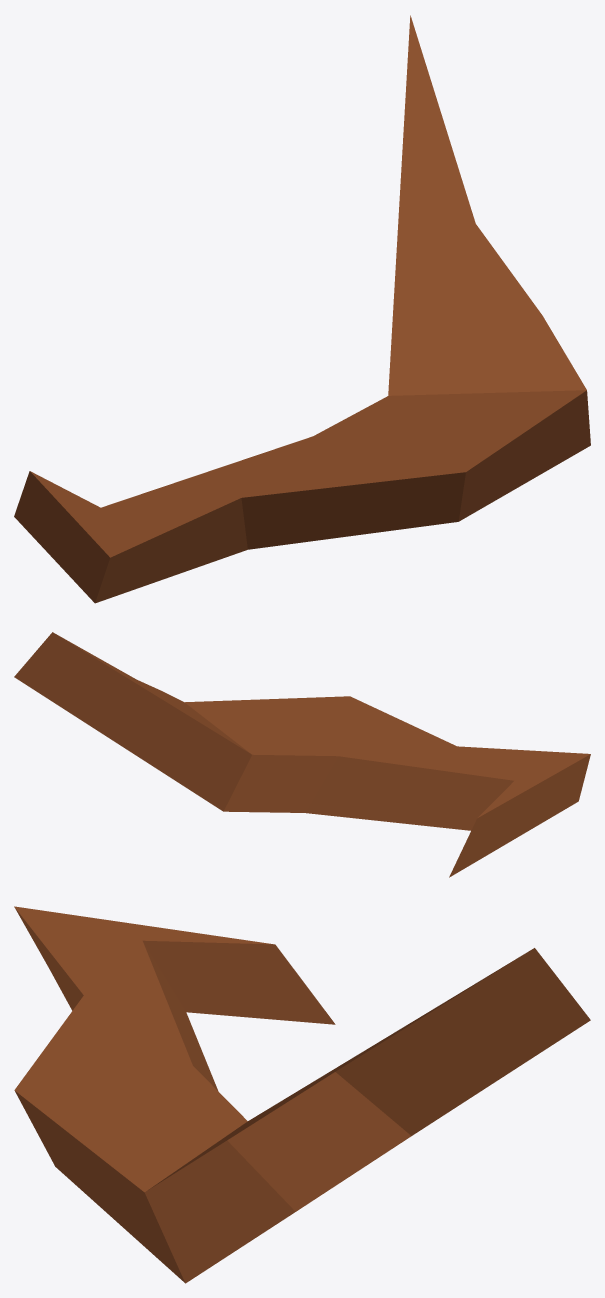
The model's file is Collin_BrokenVase_005_Piece_002.fbx.
3 renders of one model, top to bottom at view 1: azimuth 30°, elevation 25°; view 2: azimuth 150°, elevation 25°; view 3: azimuth 270°, elevation 25°, orthographic. The views are drawn at different scales.
Parts seen in each view (by area): view 1: Broken_Vase_001_BrokenPiece_003; view 2: Broken_Vase_001_BrokenPiece_003; view 3: Broken_Vase_001_BrokenPiece_003.
Part boxes in pixels (box(x1,y1,x2,y2)): Broken_Vase_001_BrokenPiece_003: box(14, 15, 590, 603); Broken_Vase_001_BrokenPiece_003: box(14, 632, 590, 877); Broken_Vase_001_BrokenPiece_003: box(14, 906, 590, 1283).
Size of the model in its own units: 18.12 by 9.53 by 14.91.
Materials: 1 (1 with a texture image).
